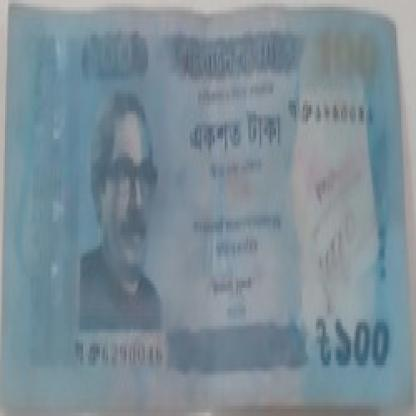one hundred taka: (308, 312, 399, 374), (76, 24, 154, 90), (315, 24, 391, 87)
